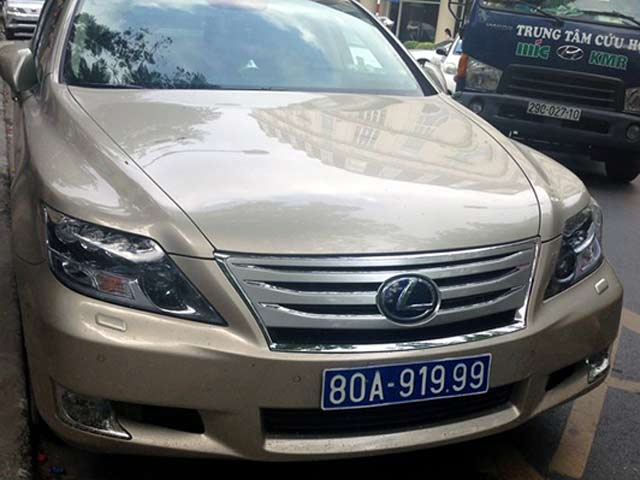plate: (321, 353, 493, 412)
